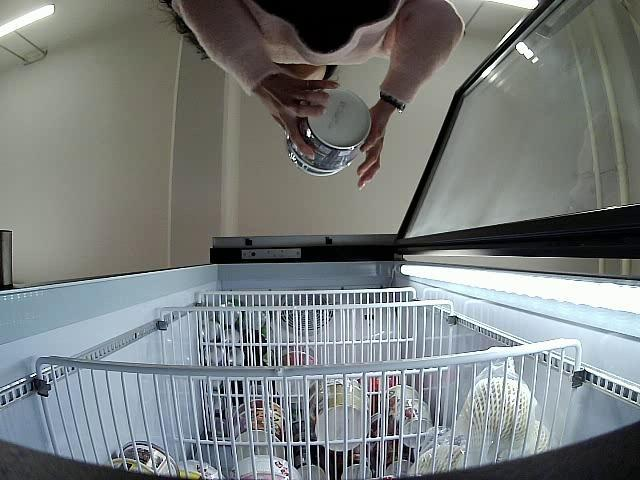07_buldak_L: (290, 80, 368, 167)
